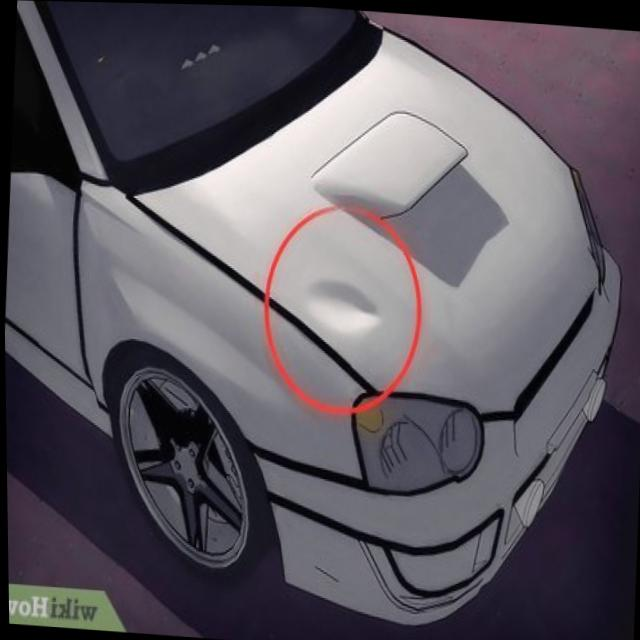Dent: (292, 271, 380, 326)
